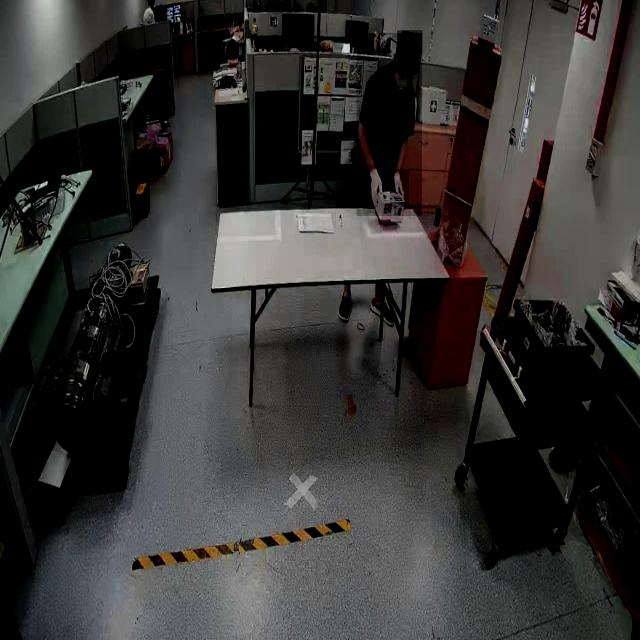face_mask: (390, 62, 412, 89)
hand_glove: (367, 164, 385, 214), (389, 169, 409, 208)
head_nohelmet: (397, 30, 422, 55)
person: (356, 33, 422, 217)
shoes: (368, 289, 397, 327), (336, 286, 354, 324)
